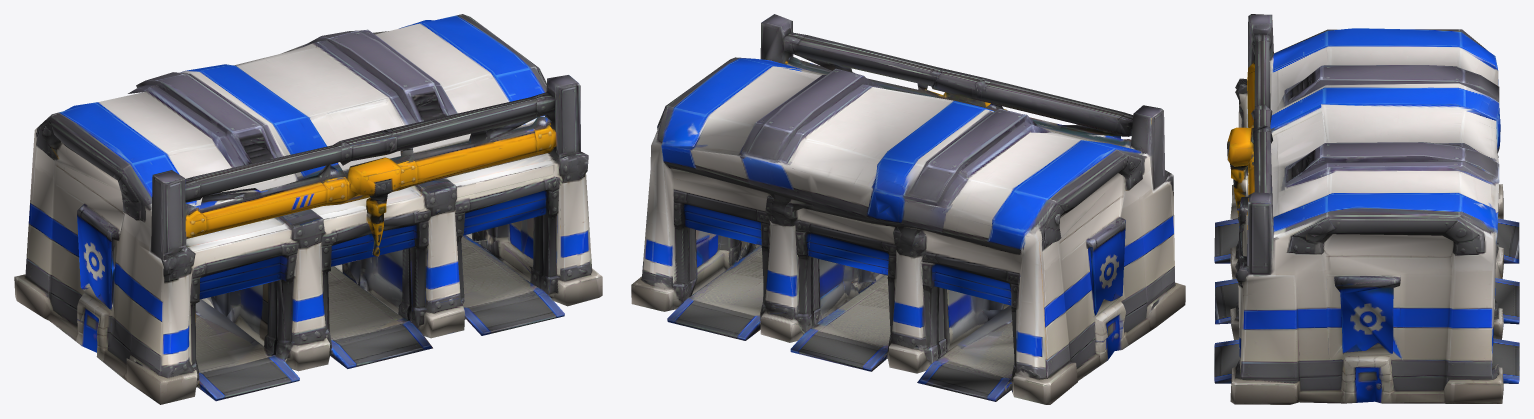
File: Meshy_AI_Blue_Striped_Freight__0508151250_texture.fbx
3 renders of one model, left to right at view 1: azimuth 30°, elevation 25°; view 2: azimuth 150°, elevation 25°; view 3: azimuth 270°, elevation 25°, orthographic. The views are drawn at different scales.
Parts seen in each view (by area): view 1: Mesh_0; view 2: Mesh_0; view 3: Mesh_0.
Boxes of the visible parts, box(x1,y1,x2,y2) form: Mesh_0: box(14, 14, 602, 404); Mesh_0: box(631, 14, 1185, 404); Mesh_0: box(1214, 14, 1519, 404).
Size of the model in its own units: 190 by 87.35 by 122.
Materials: 1 (1 with a texture image).
